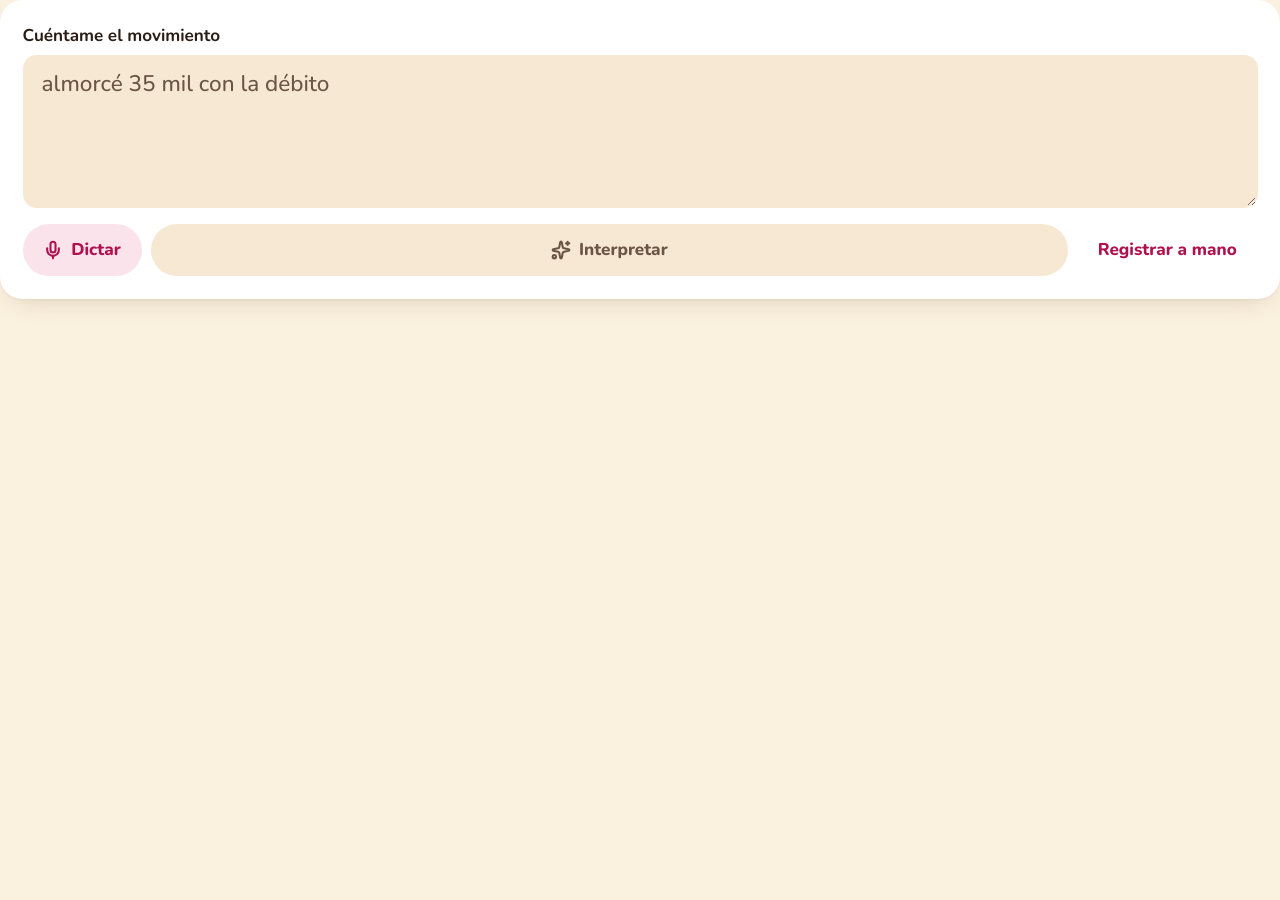
Test: RegisterFlow › cancel returns to the box with the text intact
Type "almorcé 35 mil" into the text box labelled "Cuéntame el movimiento". click: (640, 131)
box: [22, 55, 1258, 208]
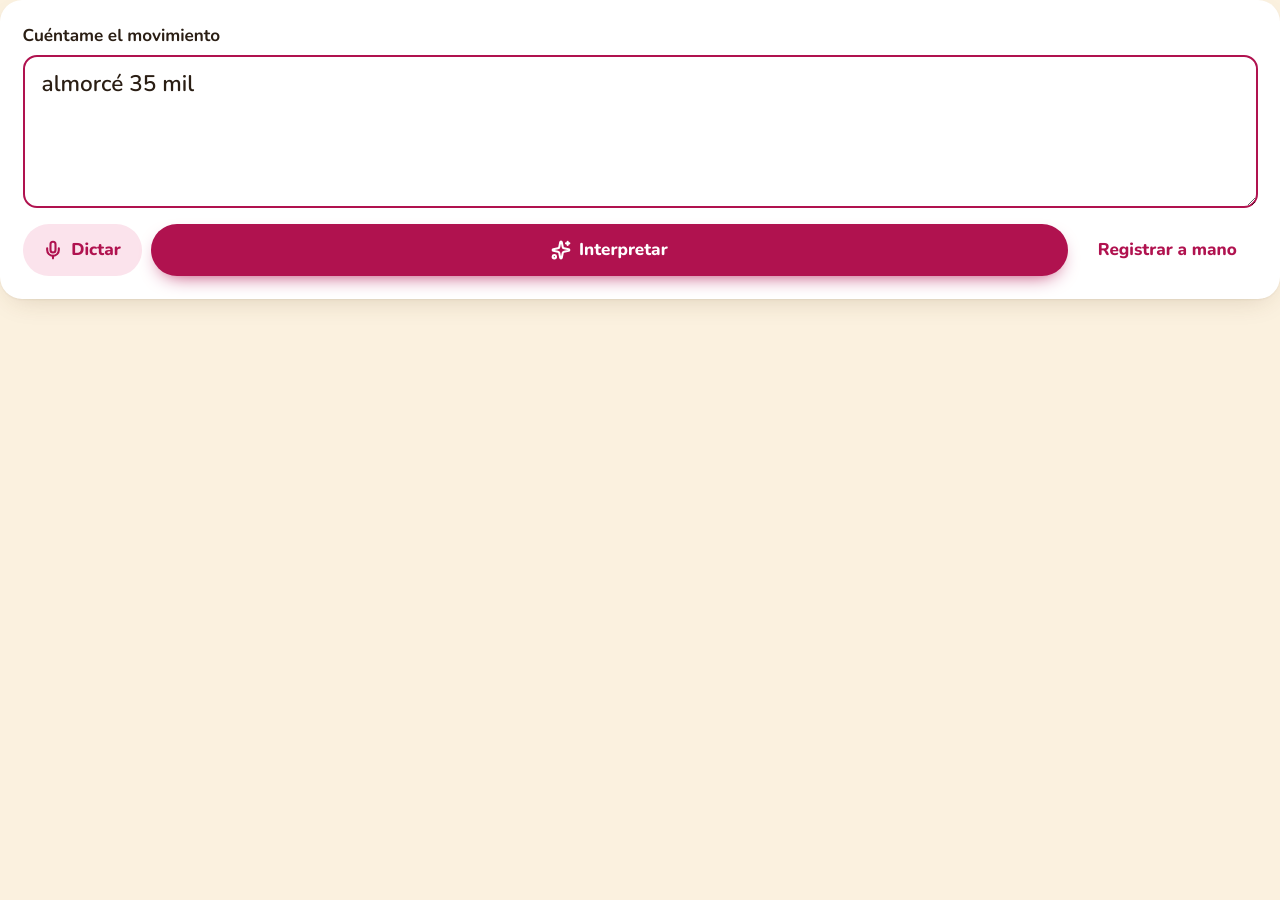
Click the button "Interpretar". click: (609, 250)
box: [150, 224, 1068, 276]
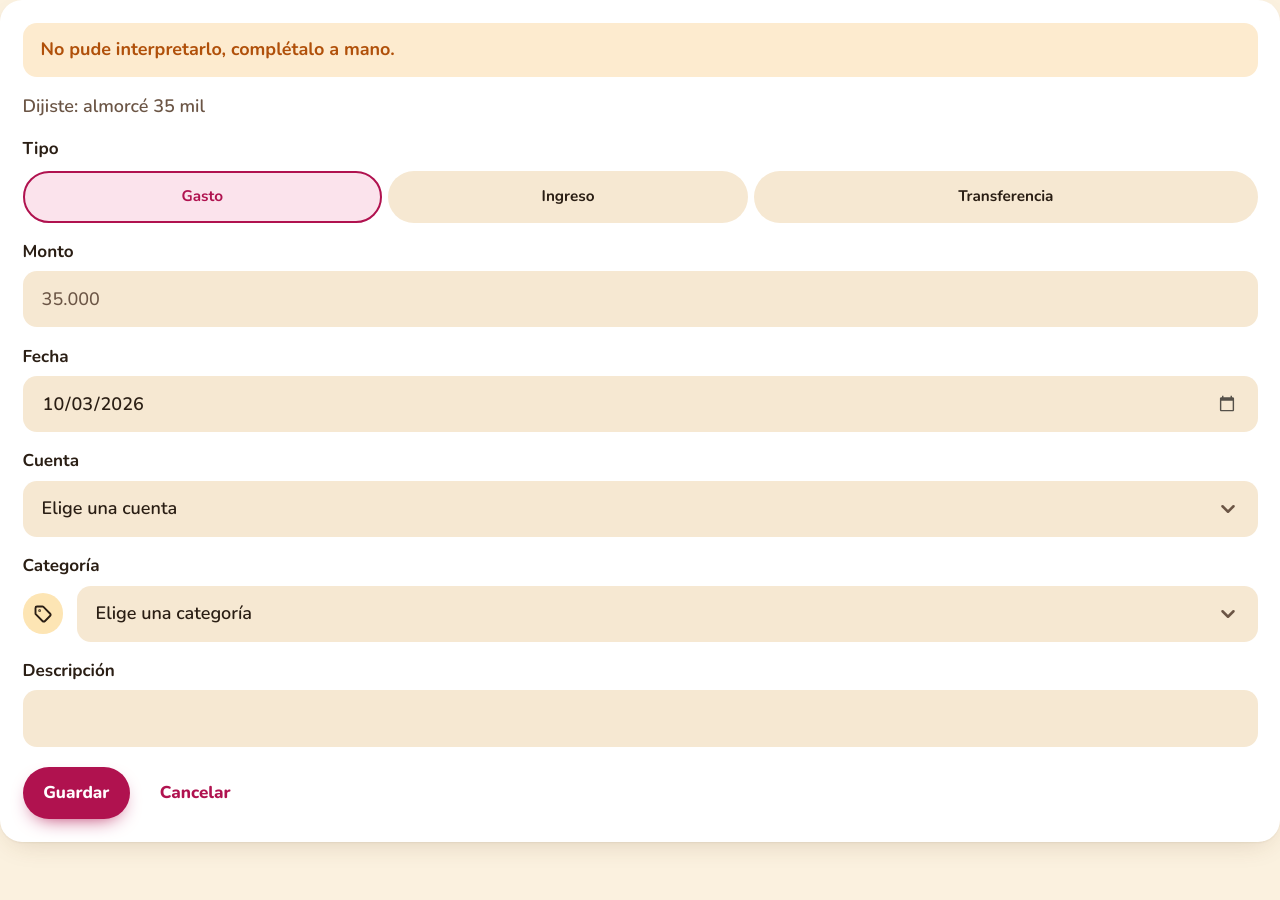
Click the button "Cancelar". click: (195, 793)
box: [139, 767, 251, 819]
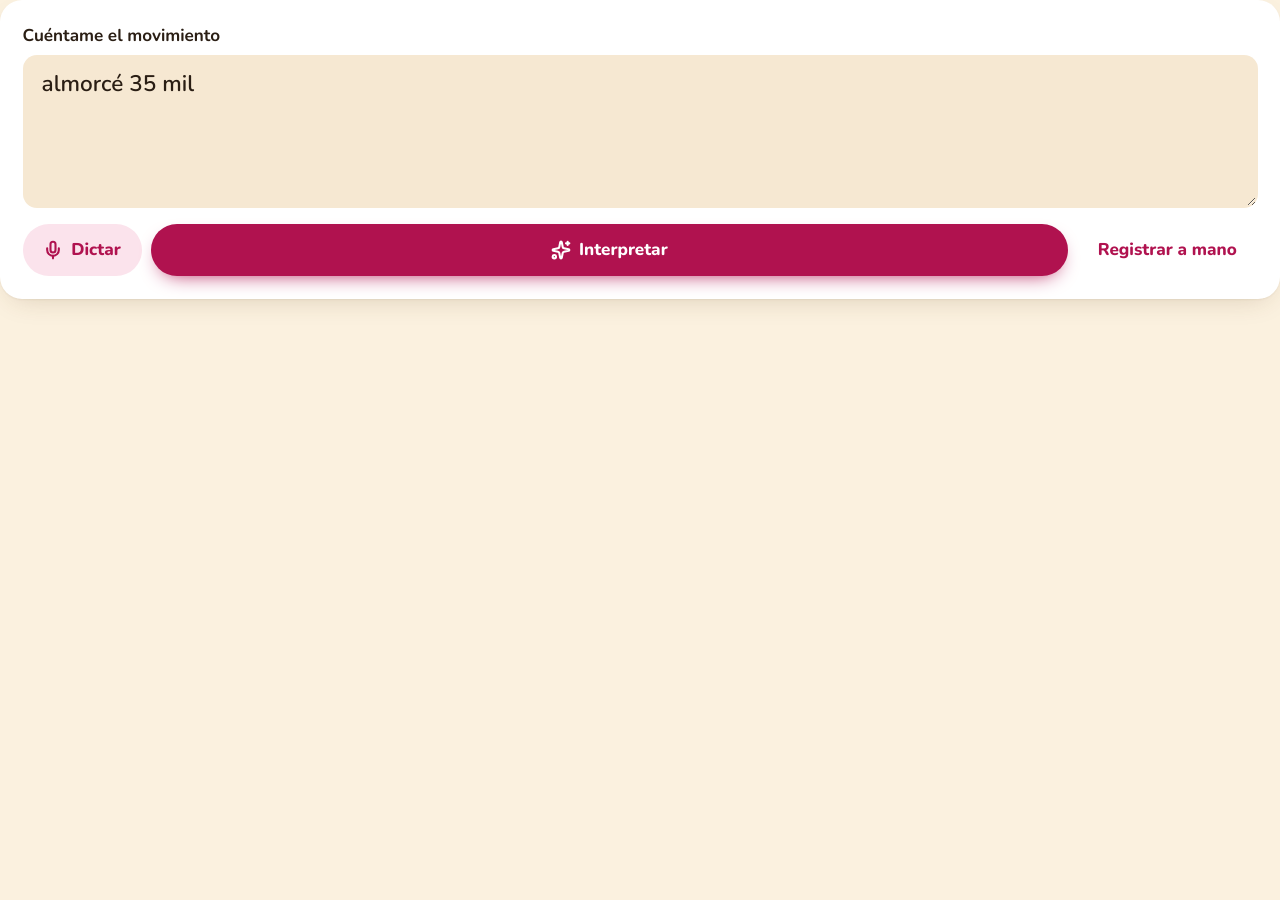
Now the text box labelled "Cuéntame el movimiento" holds "almorcé 35 mil", box [22, 55, 1258, 208]
